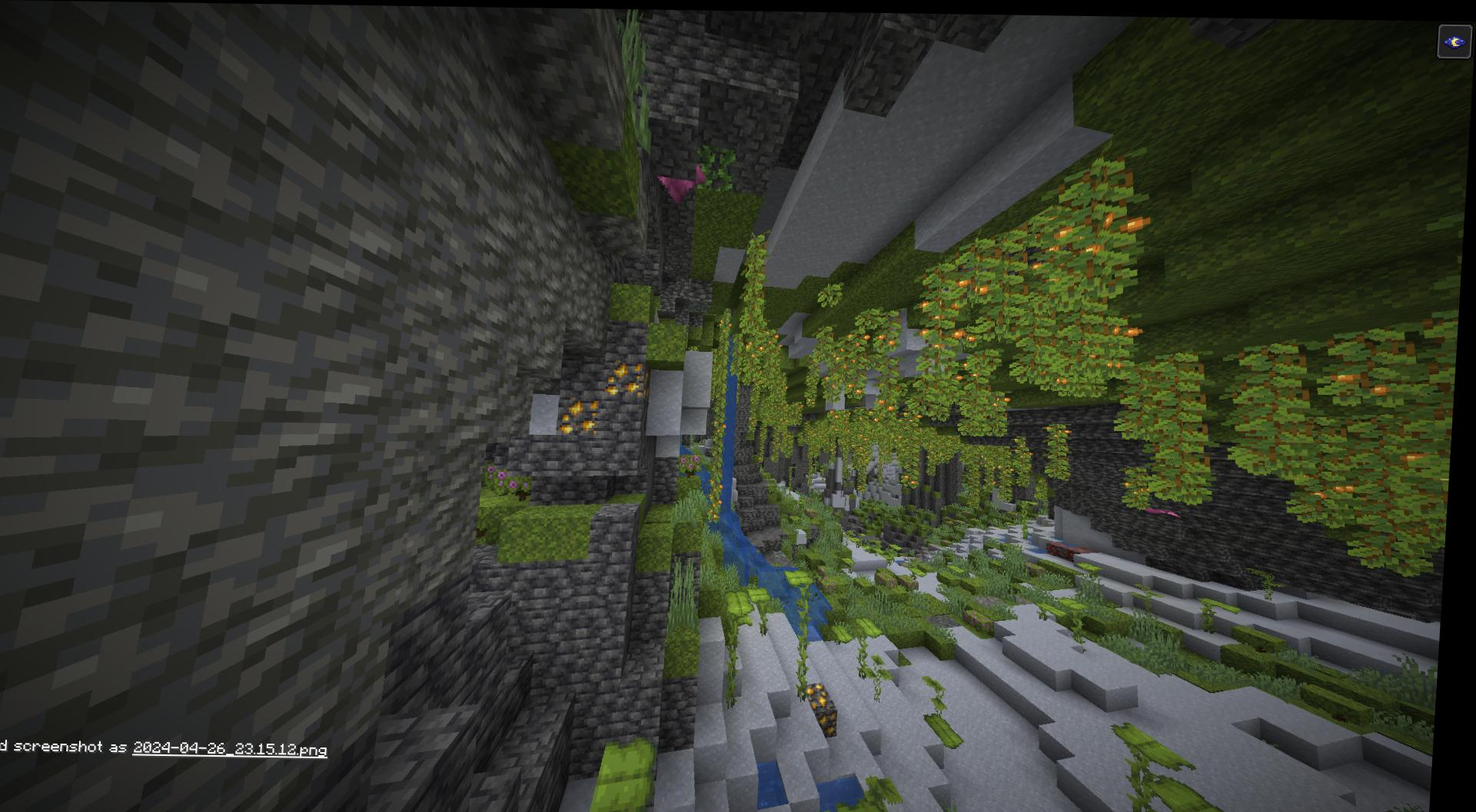gold ore: (814, 679, 851, 732), (608, 354, 653, 396), (564, 394, 604, 434)
redstone ore: (1054, 537, 1097, 558)
